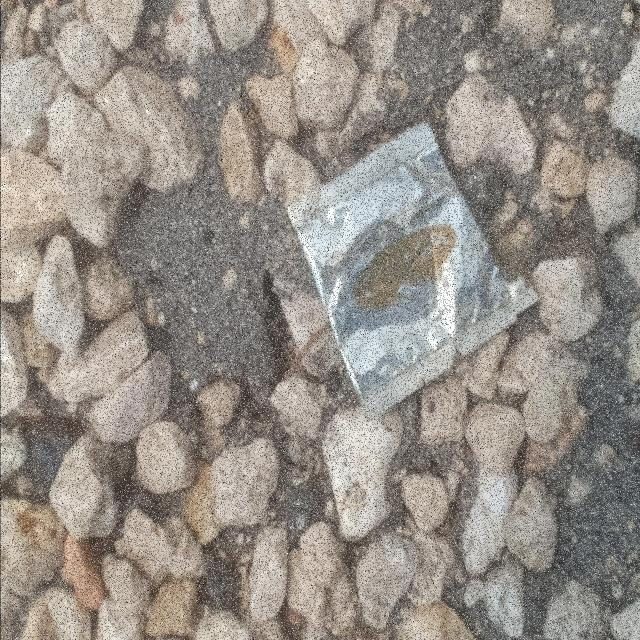plastic_waste: (286, 117, 544, 426)
